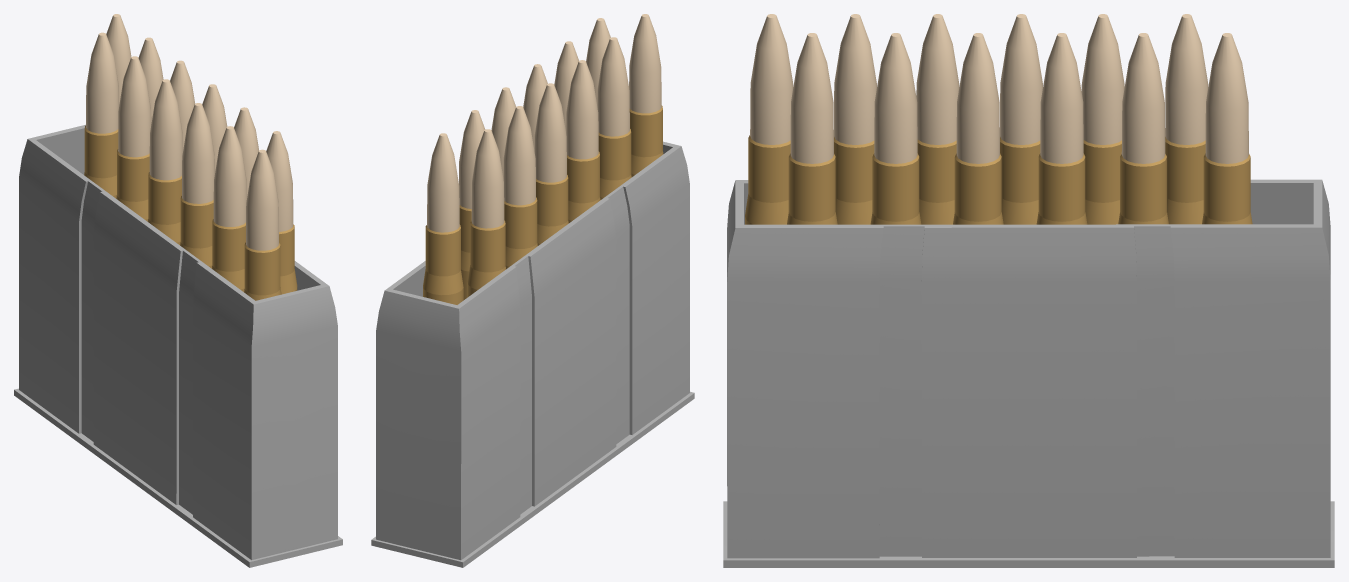
File: SM_Ammo-Large.fbx
The picture shows the model from 3 angles, left to right: view 1: azimuth 30°, elevation 25°; view 2: azimuth 150°, elevation 25°; view 3: azimuth 270°, elevation 25°; orthographic projection. The views are drawn at different scales.
Visible parts, largest first — view 1: pMag, pRound7_62mm9, pRound7_62mm5, pRound7_62mm3, pRound7_62mm7, pRound7_62mm, pRound7_62mm11, pRound7_62mm1, pRound7_62mm4, pRound7_62mm2, pRound7_62mm8, pRound7_62mm6 (+1 smaller); view 2: pMag, pRound7_62mm8, pRound7_62mm9, pRound7_62mm11, pRound7_62mm, pRound7_62mm7, pRound7_62mm3, pRound7_62mm5, pRound7_62mm10, pRound7_62mm2, pRound7_62mm4, pRound7_62mm1 (+1 smaller); view 3: pMag, pRound7_62mm, pRound7_62mm2, pRound7_62mm4, pRound7_62mm8, pRound7_62mm1, pRound7_62mm6, pRound7_62mm10, pRound7_62mm3, pRound7_62mm5, pRound7_62mm9, pRound7_62mm7 (+1 smaller).
Part boxes in pixels (<box>): pMag: <box>14,124,342,567</box>; pRound7_62mm9: <box>84,32,118,198</box>; pRound7_62mm5: <box>147,79,182,244</box>; pRound7_62mm3: <box>212,126,246,291</box>; pRound7_62mm7: <box>180,103,214,268</box>; pRound7_62mm: <box>244,149,281,300</box>; pRound7_62mm11: <box>116,56,151,221</box>; pRound7_62mm1: <box>266,131,297,294</box>; pRound7_62mm4: <box>170,60,195,152</box>; pRound7_62mm2: <box>234,107,258,199</box>; pRound7_62mm8: <box>106,14,131,106</box>; pRound7_62mm6: <box>202,84,227,172</box>; pMag: <box>371,141,694,567</box>; pRound7_62mm8: <box>423,133,463,304</box>; pRound7_62mm9: <box>467,129,505,296</box>; pRound7_62mm11: <box>503,106,537,269</box>; pRound7_62mm: <box>629,14,663,176</box>; pRound7_62mm7: <box>566,60,600,222</box>; pRound7_62mm3: <box>597,37,631,199</box>; pRound7_62mm5: <box>534,83,568,245</box>; pRound7_62mm10: <box>459,110,485,299</box>; pRound7_62mm2: <box>554,41,578,132</box>; pRound7_62mm4: <box>491,87,515,178</box>; pRound7_62mm1: <box>586,18,610,105</box>; pMag: <box>723,179,1334,567</box>; pRound7_62mm: <box>745,14,793,224</box>; pRound7_62mm2: <box>870,33,921,224</box>; pRound7_62mm4: <box>1036,33,1087,224</box>; pRound7_62mm8: <box>1202,33,1252,224</box>; pRound7_62mm1: <box>787,33,837,224</box>; pRound7_62mm6: <box>953,33,1003,224</box>; pRound7_62mm10: <box>1118,33,1168,224</box>; pRound7_62mm3: <box>834,14,876,224</box>; pRound7_62mm5: <box>1000,14,1042,224</box>; pRound7_62mm9: <box>1165,14,1208,224</box>; pRound7_62mm7: <box>916,14,959,224</box>.
Size of the model in its own units: 4.3 by 17.39 by 18.78.
